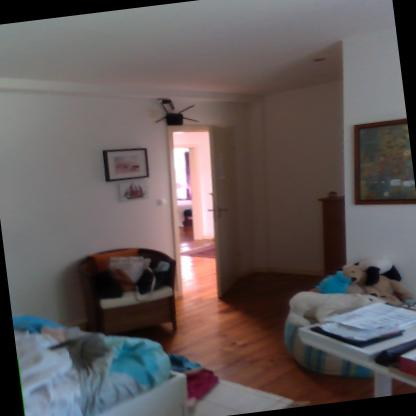semi: (162, 115, 272, 302)
